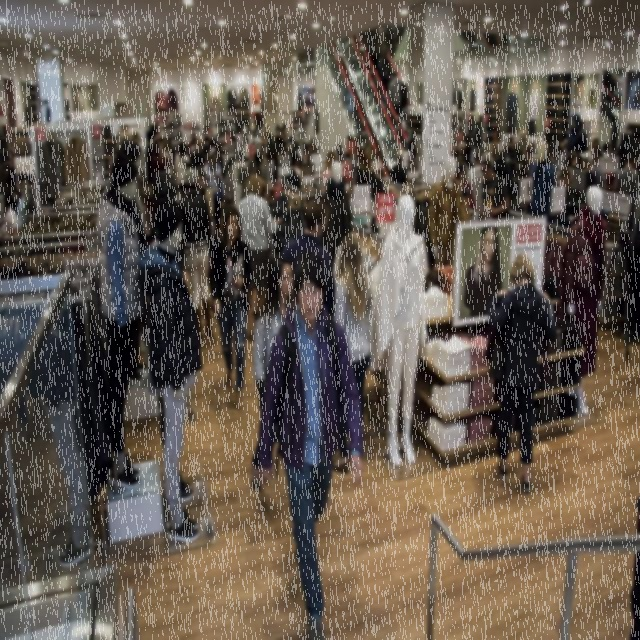pessoa: (49, 130, 150, 576), (255, 245, 366, 640), (482, 248, 559, 496), (368, 187, 431, 474), (149, 194, 197, 545), (249, 254, 299, 492), (326, 231, 374, 474), (564, 185, 606, 426), (207, 206, 253, 412), (241, 83, 316, 196), (233, 170, 280, 340), (566, 70, 640, 167), (178, 166, 214, 346), (322, 132, 385, 232), (489, 127, 558, 215), (464, 220, 506, 336), (280, 197, 334, 266), (430, 166, 463, 271), (450, 78, 486, 167), (0, 156, 30, 241), (41, 81, 99, 122), (149, 122, 181, 195), (202, 145, 226, 240), (478, 156, 511, 221), (504, 74, 540, 128), (552, 165, 578, 228), (364, 23, 393, 75), (466, 148, 486, 220), (612, 150, 639, 198), (186, 124, 227, 154), (454, 162, 476, 211), (174, 140, 191, 197), (196, 167, 214, 220), (387, 70, 403, 129), (389, 147, 407, 189), (590, 144, 606, 191), (580, 150, 598, 190), (398, 98, 414, 132), (206, 84, 223, 114), (190, 138, 208, 166), (464, 186, 474, 221), (567, 165, 578, 185)
